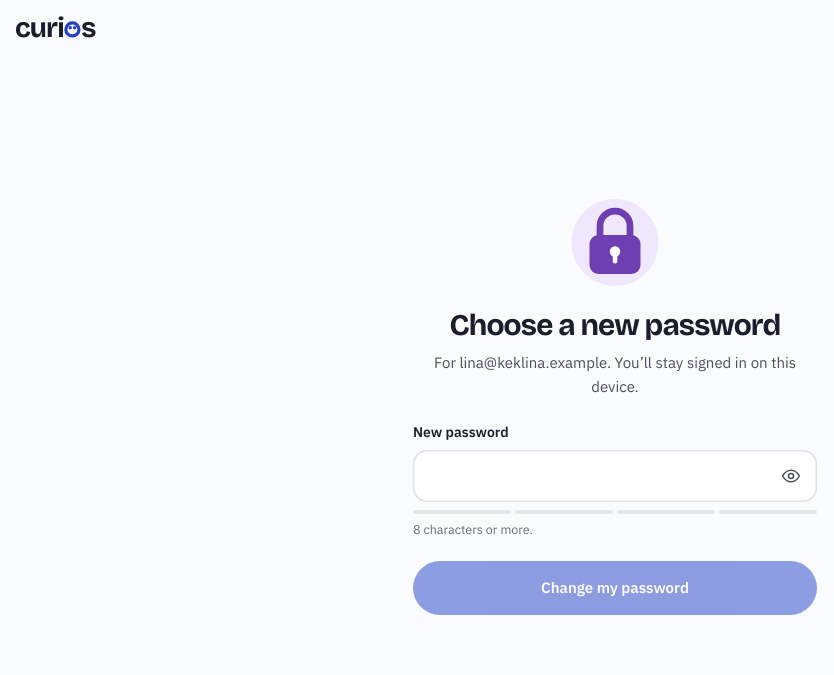
it: ResetForm › surfaces a weak password with the API reason
Type "password" into the password field labelled "New password".
click(600, 476); type("password")  # box [429, 452, 771, 500]
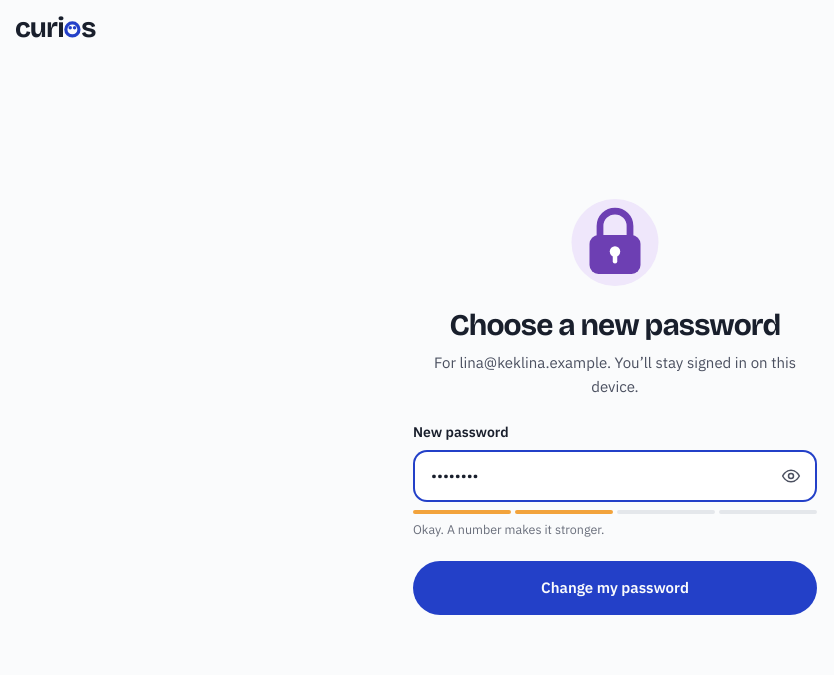
Click the button "Change my password".
click(615, 588)  # box [413, 561, 817, 615]
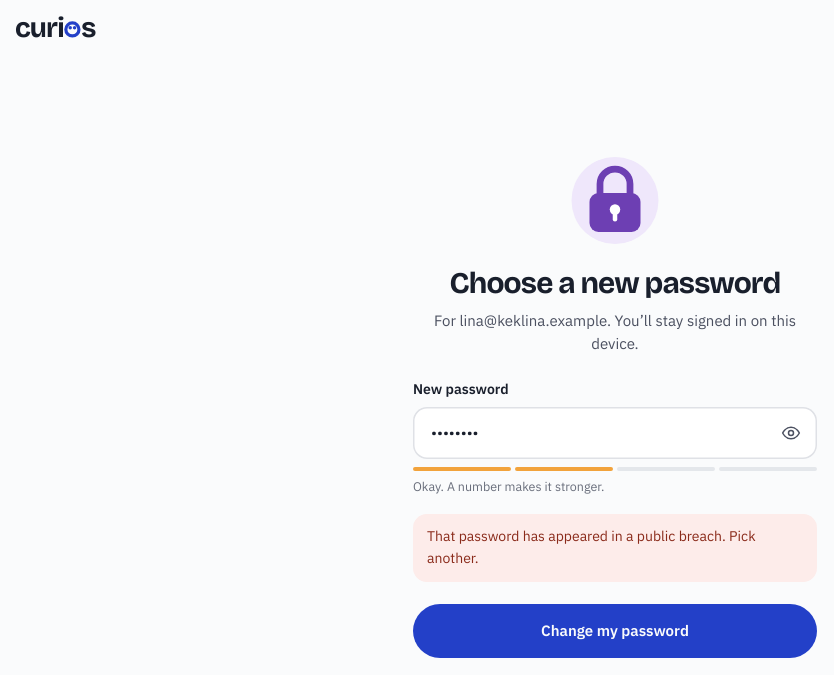
Result: the message shows "public breach" at [427, 527, 756, 567]
